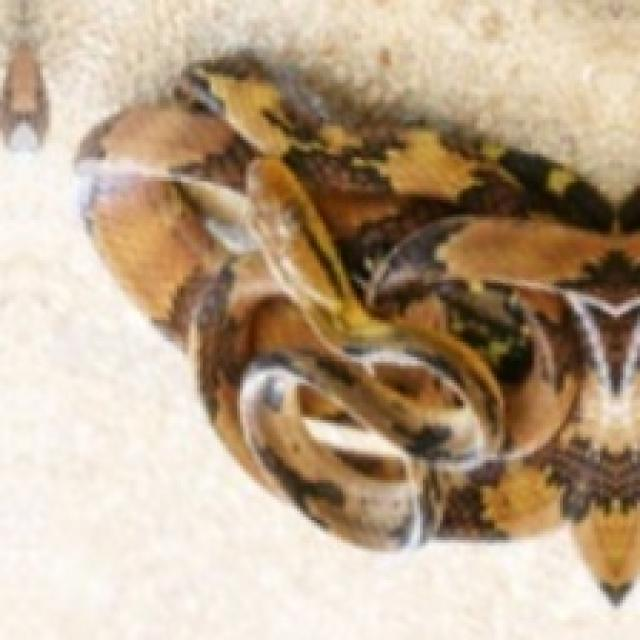dog-toothed cat snake: (77, 54, 637, 597)
